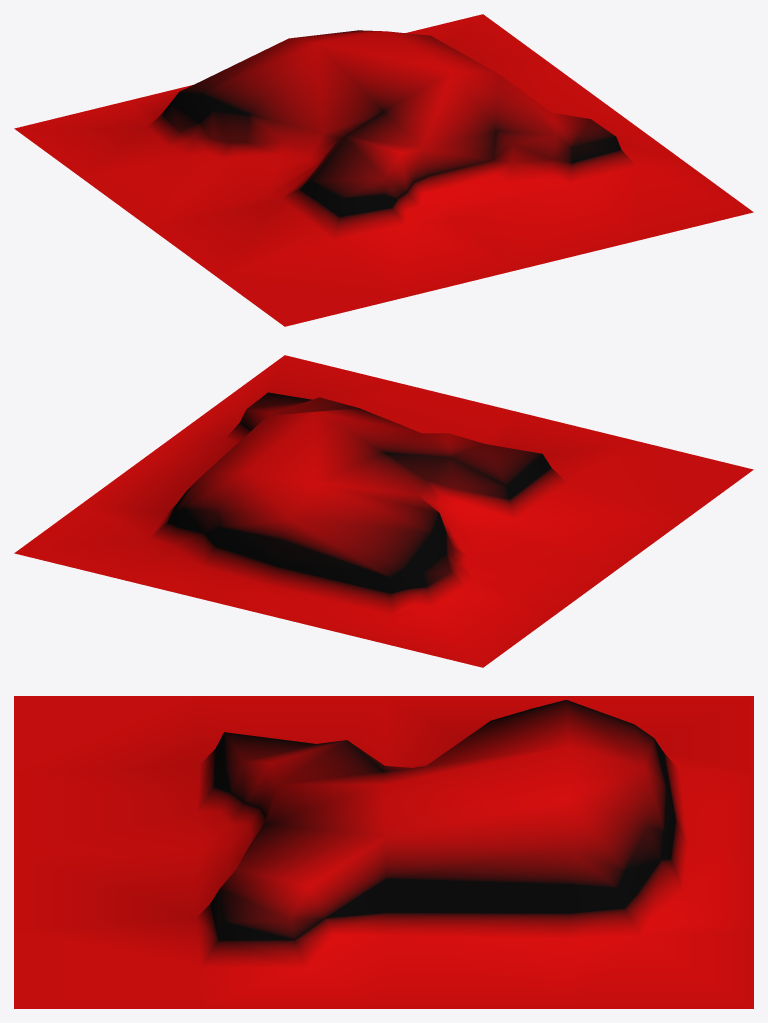
Rendered from GroundBottom01F 2M Background.fbx.
3 renders of one model, top to bottom at view 1: azimuth 30°, elevation 25°; view 2: azimuth 150°, elevation 25°; view 3: azimuth 270°, elevation 25°, orthographic. The views are drawn at different scales.
Parts seen in each view (by area): view 1: GroundBottom01F 2M Background; view 2: GroundBottom01F 2M Background; view 3: GroundBottom01F 2M Background.
Part boxes in pixels (x1=…): GroundBottom01F 2M Background: x1=14, y1=14, x2=753, y2=326; GroundBottom01F 2M Background: x1=14, y1=355, x2=753, y2=667; GroundBottom01F 2M Background: x1=14, y1=696, x2=753, y2=1008.
Size of the model in its own units: 4 by 0.6747 by 4.
